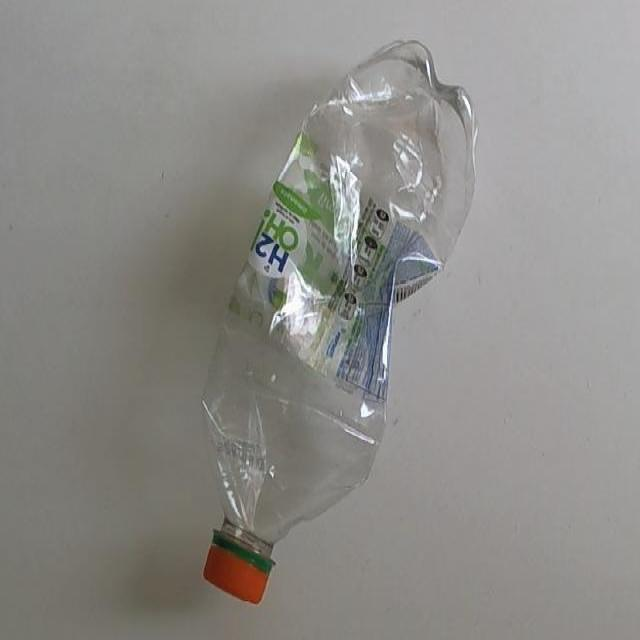defect: (197, 32, 482, 608)
